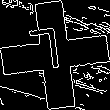L_S: (37, 28, 73, 82)
